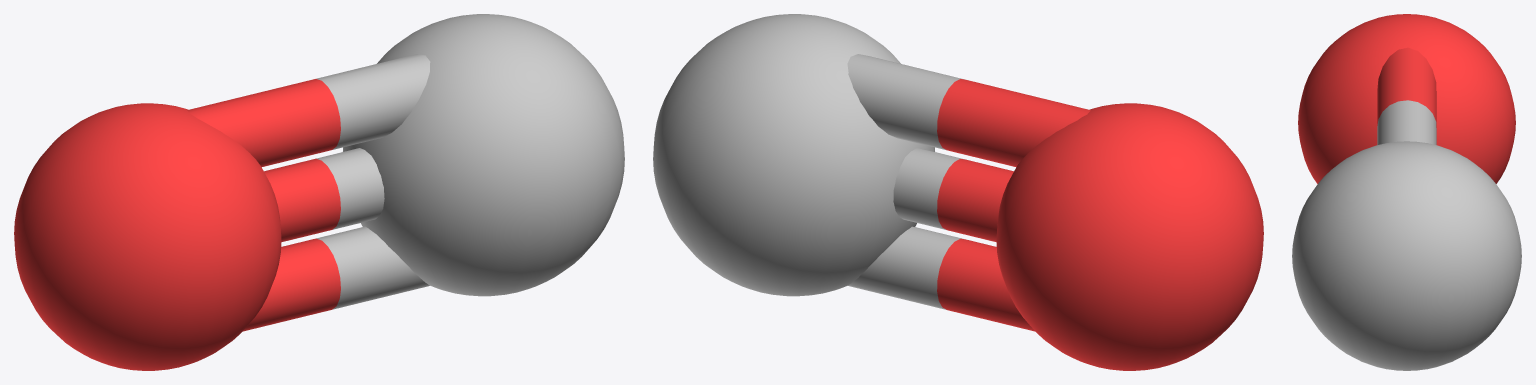
The model's file is carbon-monoxide.fbx.
3 renders of one model, left to right at view 1: azimuth 30°, elevation 25°; view 2: azimuth 150°, elevation 25°; view 3: azimuth 270°, elevation 25°, orthographic. The views are drawn at different scales.
Parts seen in each view (by area): view 1: Oxygen Atom, Carbon Atom, C-O Bond; view 2: Oxygen Atom, Carbon Atom, C-O Bond; view 3: Carbon Atom, Oxygen Atom, C-O Bond.
Part boxes in pixels (x1,y1,x2,y2): Oxygen Atom: (14,103,281,370); Carbon Atom: (343,14,624,296); C-O Bond: (187,54,430,331); Oxygen Atom: (996,103,1263,370); Carbon Atom: (653,14,934,296); C-O Bond: (847,54,1090,331); Carbon Atom: (1292,141,1521,370); Oxygen Atom: (1298,14,1515,183); C-O Bond: (1377,47,1436,144).
Size of the model in its own units: 181 by 77 by 77.
